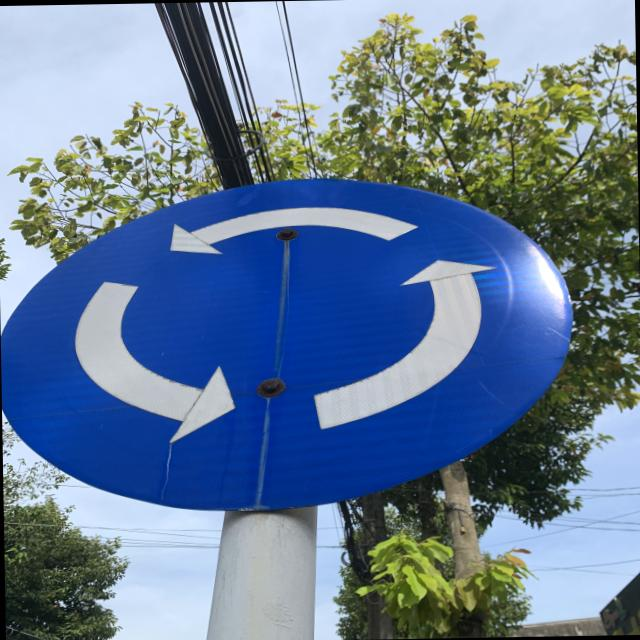Xe_Bus: (0, 168, 578, 509)
